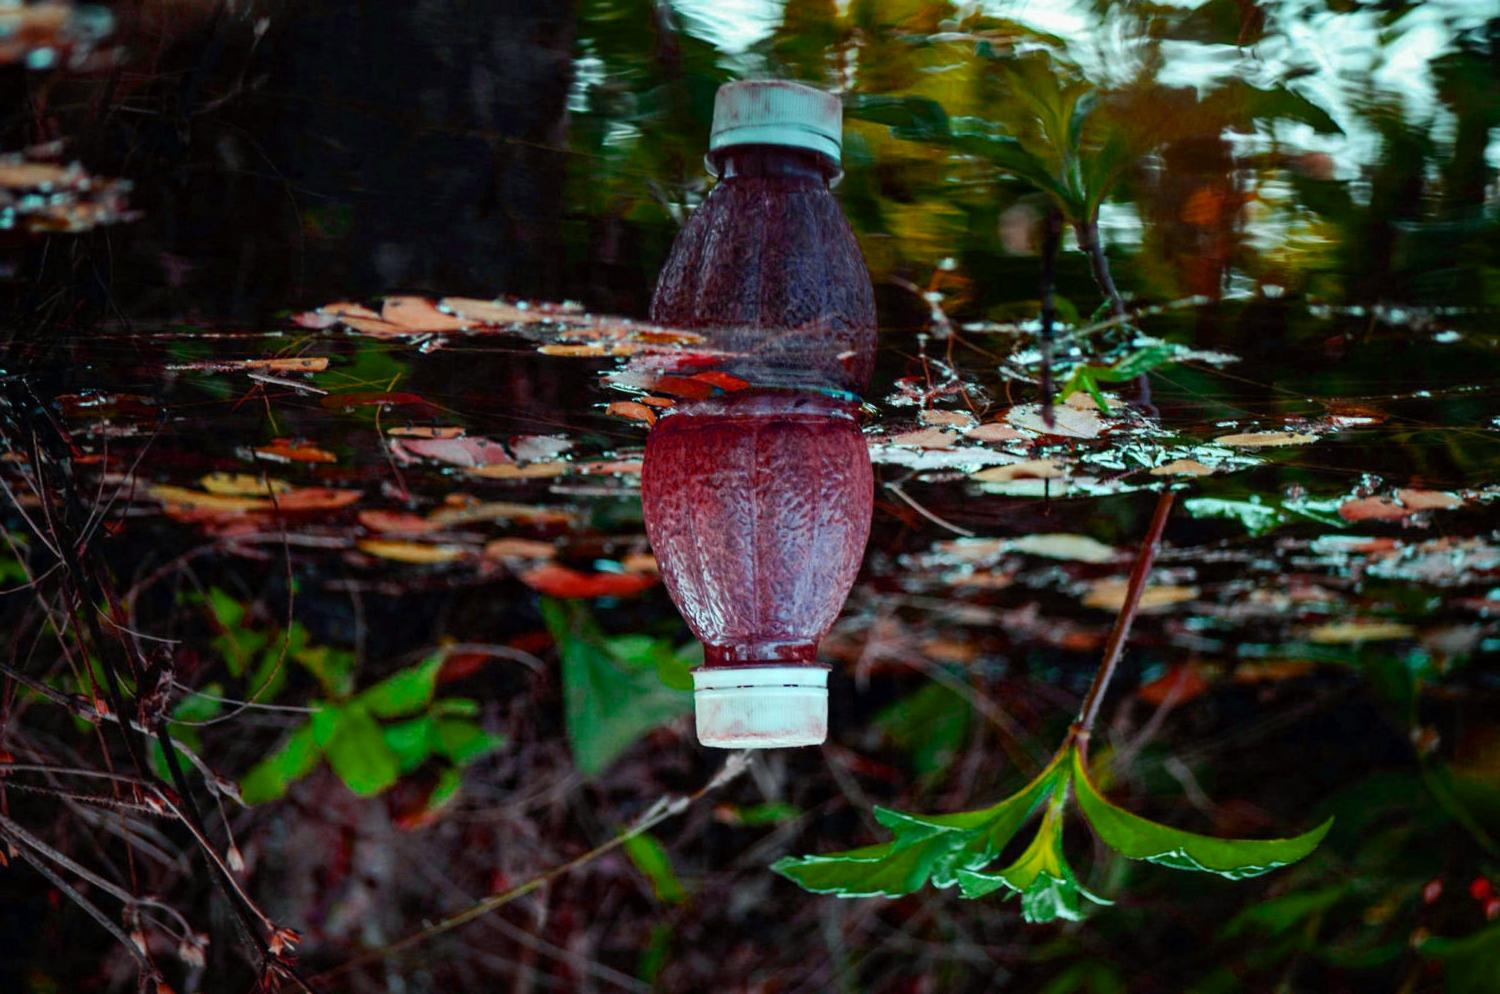Plastic: (635, 382, 885, 764)
